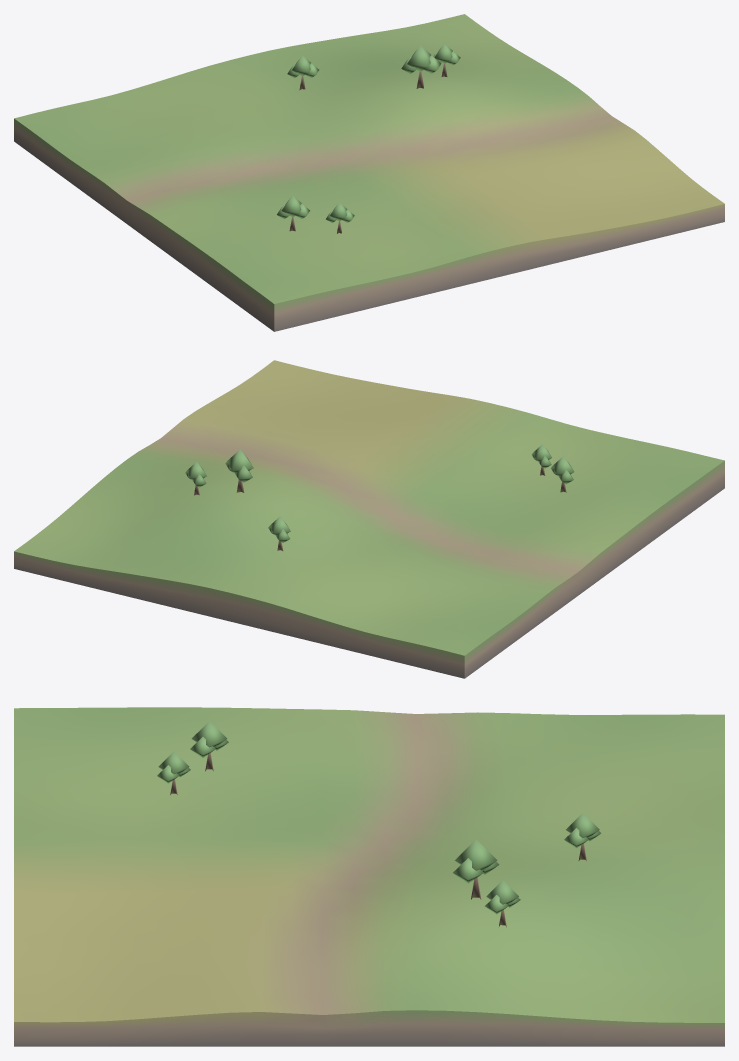
The model's file is plains.glb.
3 renders of one model, top to bottom at view 1: azimuth 30°, elevation 25°; view 2: azimuth 150°, elevation 25°; view 3: azimuth 270°, elevation 25°, orthographic. The views are drawn at different scales.
Visible parts, largest first — view 1: 03_Plains_Terrain-col, 03_Plains_Plinth, 03_Plains_Obstacles-col; view 2: 03_Plains_Terrain-col, 03_Plains_Plinth, 03_Plains_Obstacles-col; view 3: 03_Plains_Terrain-col, 03_Plains_Plinth, 03_Plains_Obstacles-col.
Boxes of the visible parts, <box> form: 03_Plains_Terrain-col: <box>14,14,724,303</box>; 03_Plains_Plinth: <box>14,118,724,331</box>; 03_Plains_Obstacles-col: <box>277,43,460,233</box>; 03_Plains_Terrain-col: <box>14,360,724,655</box>; 03_Plains_Plinth: <box>14,461,724,678</box>; 03_Plains_Obstacles-col: <box>185,444,574,550</box>; 03_Plains_Terrain-col: <box>14,707,724,1022</box>; 03_Plains_Plinth: <box>14,1010,724,1046</box>; 03_Plains_Obstacles-col: <box>157,721,601,927</box>.
Bounding box in the file's own units: 8 × 1.46 × 8.
